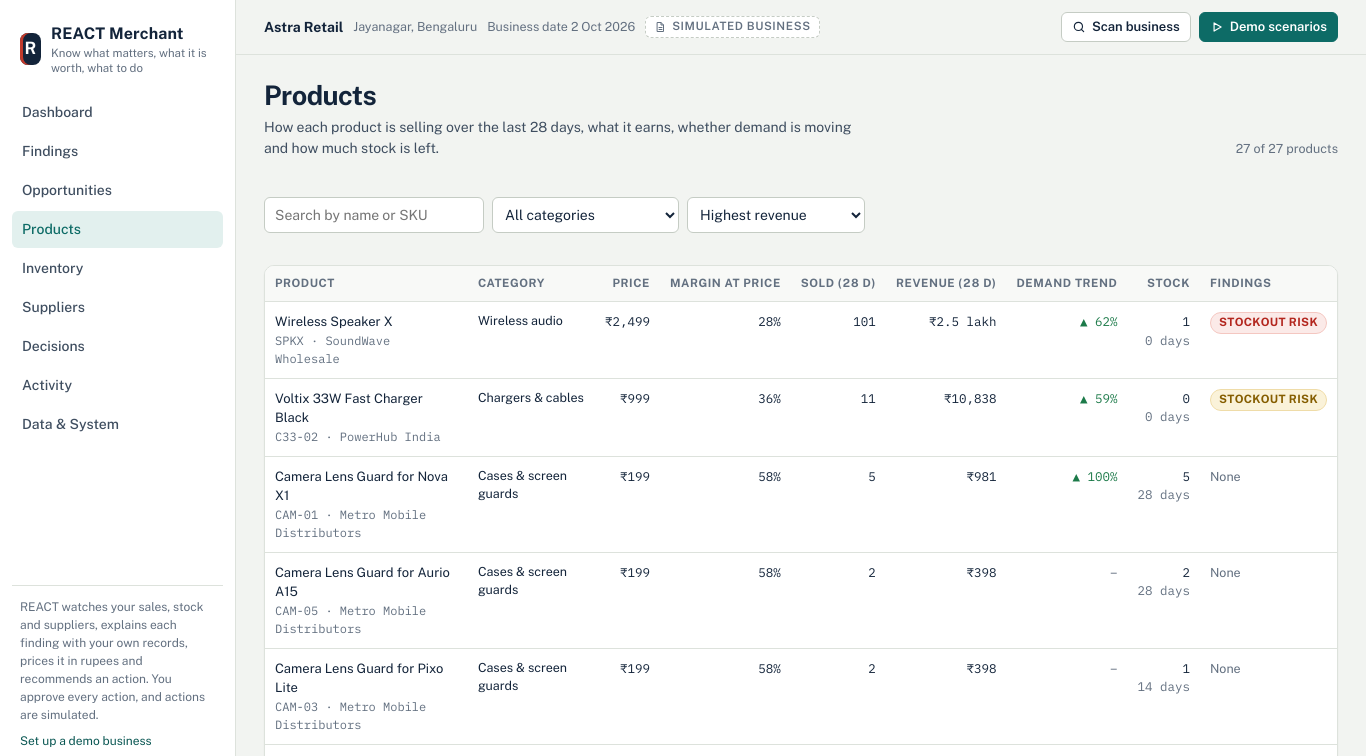
Scenario: Products, inventory and suppliers › shows product sales, margin and stock, with search
Expected: the text "Voltix 33W Fast Charger Black" is shown, 275,390 -> 423,425
Type "C33-02" into the field with placeholder "Search by name or SKU".
click(374, 215); type("C33-02")  # box 264,197 -> 484,233
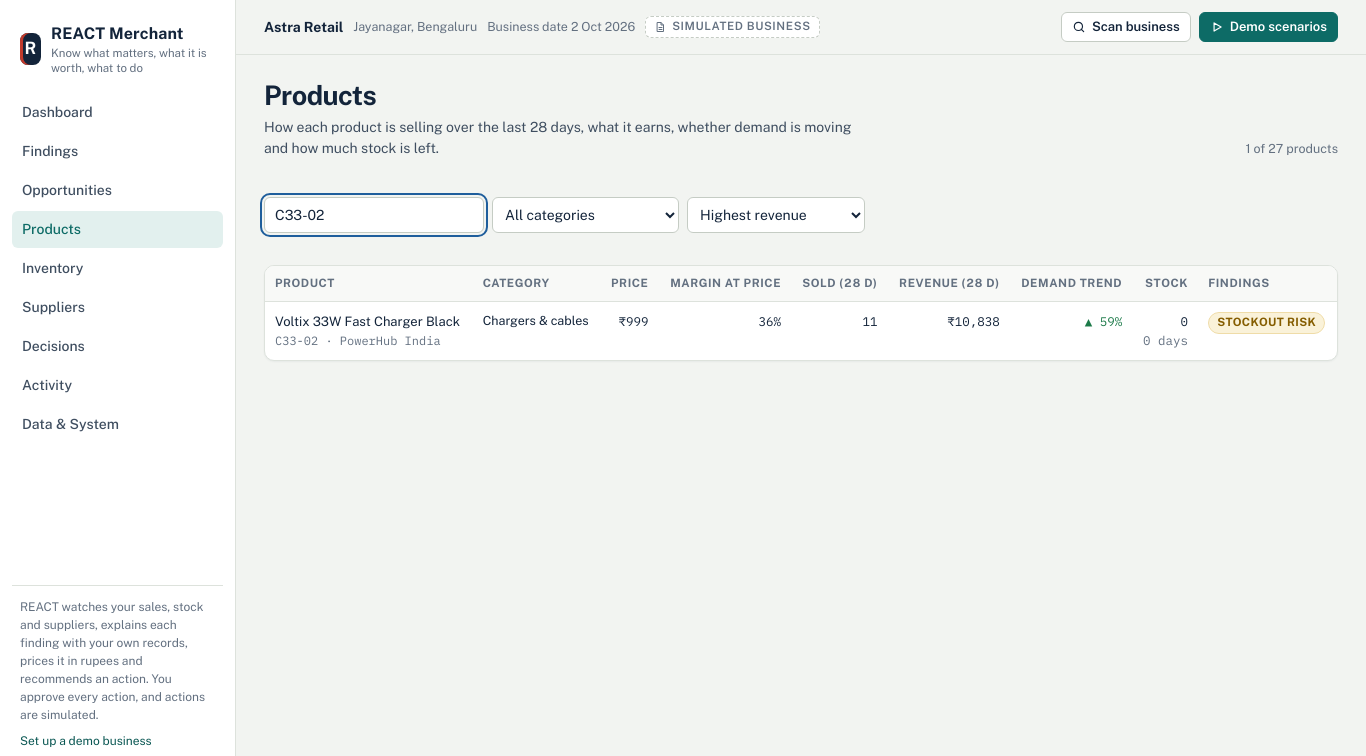
Expected: the text "Voltix 33W Fast Charger Black" is shown, 275,312 -> 463,332
Expected: the number of rows is 2, 265,266 -> 1337,302; 265,302 -> 1337,360
